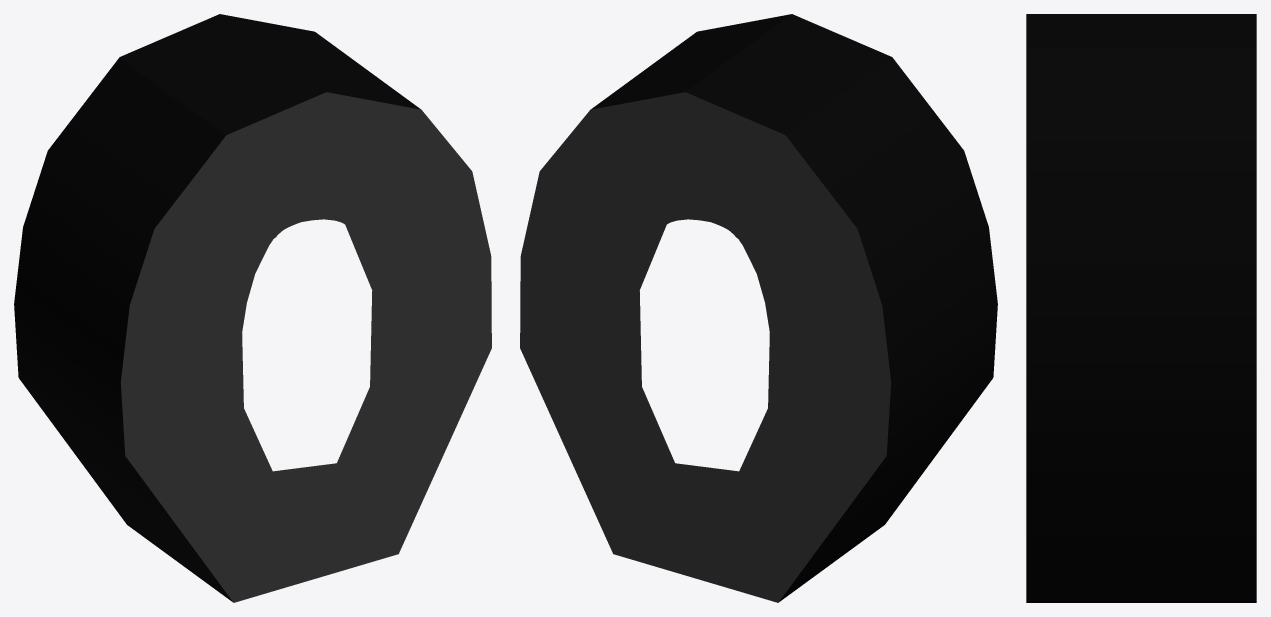
3 renders of one model, left to right at view 1: azimuth 30°, elevation 25°; view 2: azimuth 150°, elevation 25°; view 3: azimuth 270°, elevation 25°, orthographic. The views are drawn at different scales.
Visible parts, largest first — view 1: 0_Zyzol_Black; view 2: 0_Zyzol_Black; view 3: 0_Zyzol_Black.
Part boxes in pixels (<box>): 0_Zyzol_Black: <box>14,14,491,602</box>; 0_Zyzol_Black: <box>520,14,997,602</box>; 0_Zyzol_Black: <box>1026,14,1256,602</box>.
Size of what is drawn, in the model's own units: 0.0904 by 0.1136 by 0.045.
2 materials, 2 textured.
